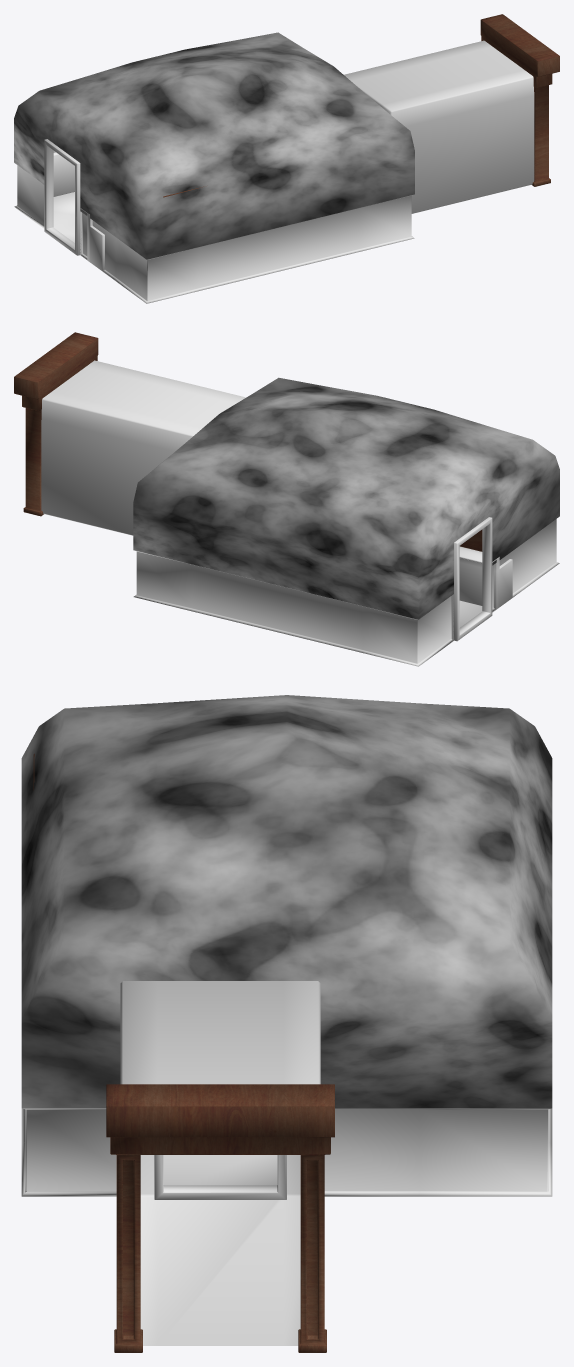
The model's file is ColdBar.fbx.
3 renders of one model, top to bottom at view 1: azimuth 30°, elevation 25°; view 2: azimuth 150°, elevation 25°; view 3: azimuth 270°, elevation 25°, orthographic. The views are drawn at different scales.
Parts seen in each view (by area): view 1: Room, Doorway, BarCounter; view 2: Room, Doorway, BarCounter; view 3: Room, Doorway.
Part boxes in pixels (x1=…): Room: x1=14, y1=32, x2=534, y2=303; Doorway: x1=480, y1=14, x2=559, y2=186; BarCounter: x1=80, y1=208, x2=104, y2=270; Room: x1=41, y1=360, x2=559, y2=666; Doorway: x1=14, y1=332, x2=98, y2=516; BarCounter: x1=459, y1=546, x2=512, y2=609; Room: x1=21, y1=695, x2=552, y2=1345; Doorway: x1=106, y1=1084, x2=334, y2=1352.
Bounding box in the file's own units: 11.43 × 3.8 × 6.
